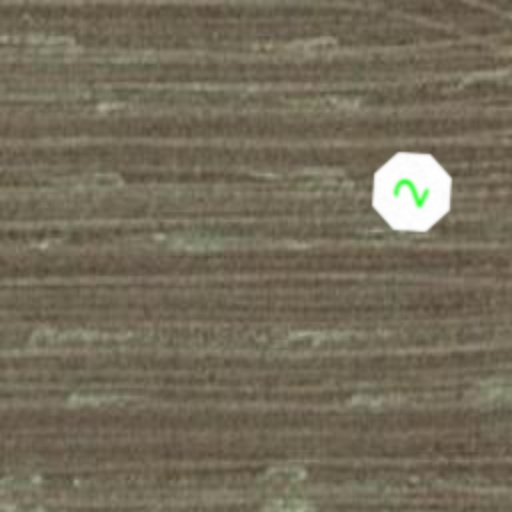octagon: (354, 134, 470, 250)
